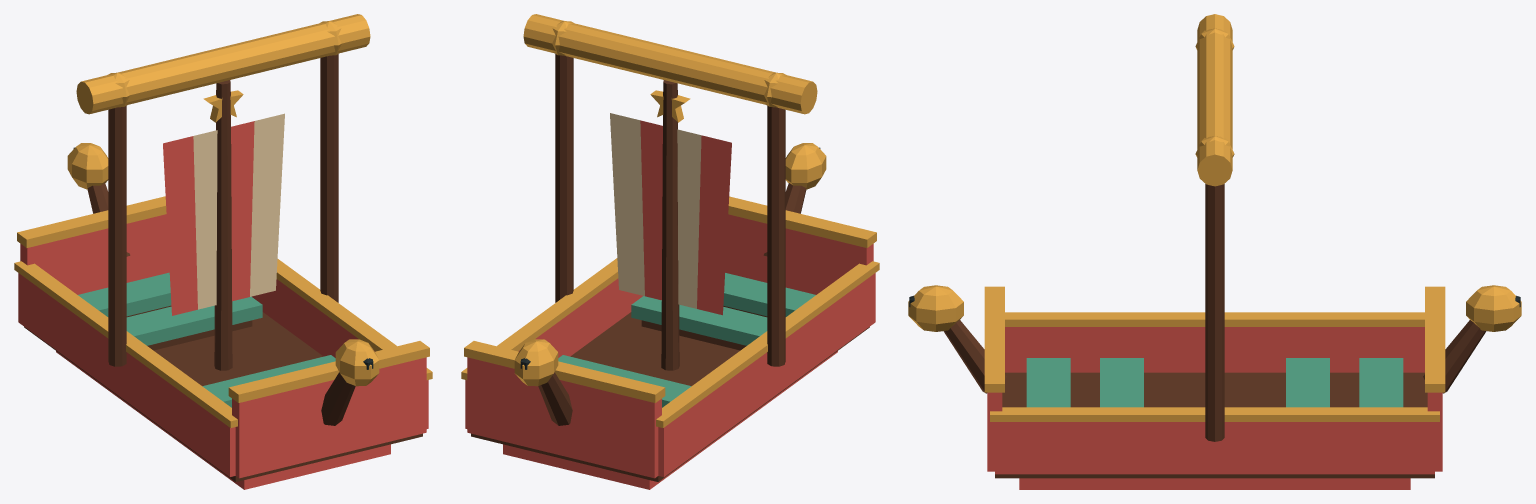
File: ParkParkPirateShip.obj
The picture shows the model from 3 angles, left to right: view 1: azimuth 30°, elevation 25°; view 2: azimuth 150°, elevation 25°; view 3: azimuth 270°, elevation 25°; orthographic projection. The views are drawn at different scales.
Visible parts, largest first — view 1: ParkParkPirateShip; view 2: ParkParkPirateShip; view 3: ParkParkPirateShip.
Part boxes in pixels (x1,y1,x2,y2): ParkParkPirateShip: (14,14,432,489); ParkParkPirateShip: (461,14,879,489); ParkParkPirateShip: (908,14,1521,489).
Bounding box in the file's own units: 6.8 × 8.35 × 12.54.
